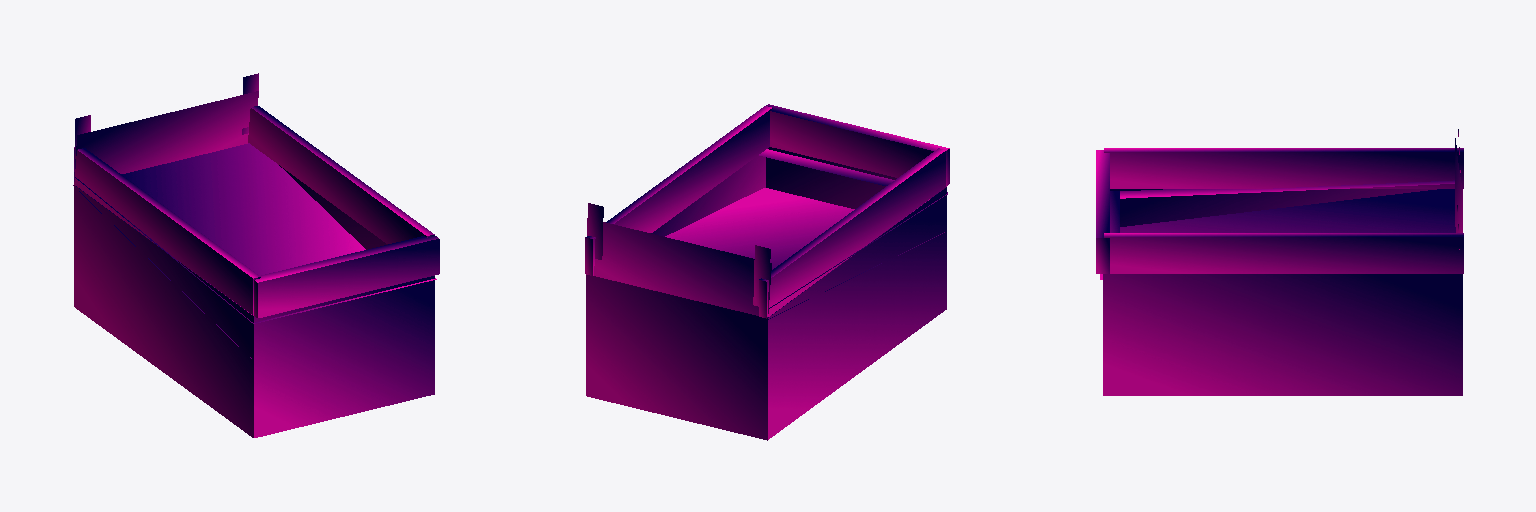
3 views of the same model, side by side, from view 1: azimuth 30°, elevation 25°; view 2: azimuth 150°, elevation 25°; view 3: azimuth 270°, elevation 25° (orthographic).
Visible parts, largest first — view 1: cuerpo; view 2: cuerpo; view 3: cuerpo.
Part boxes in pixels (x1,y1,x2,y2): cuerpo: (73, 73, 439, 437); cuerpo: (585, 104, 949, 440); cuerpo: (1096, 129, 1463, 395).
Size of the model in its own units: 12.43 by 12.39 by 21.55.
Materials: 1 (1 with a texture image).